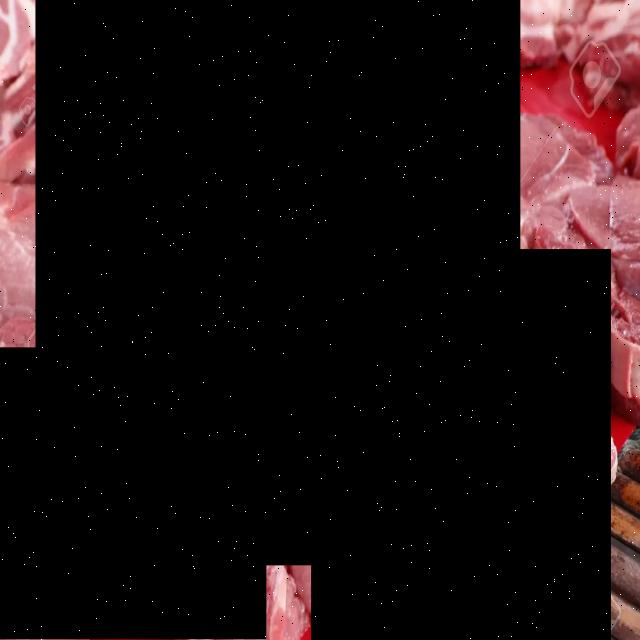Pork: (35, 0, 520, 565), (311, 249, 611, 640), (0, 347, 266, 639)
